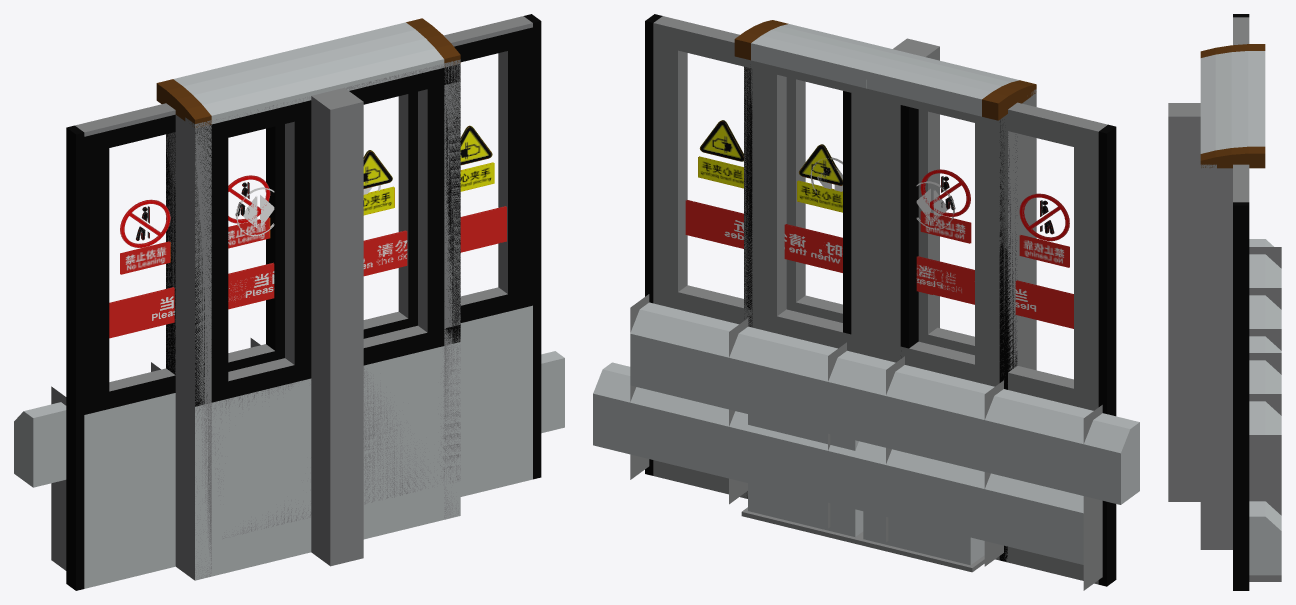
Rendered from bj_screendoor_1.obj.
3 renders of one model, left to right at view 1: azimuth 30°, elevation 25°; view 2: azimuth 150°, elevation 25°; view 3: azimuth 270°, elevation 25°, orthographic. The views are drawn at different scales.
Parts seen in each view (by area): view 1: r_l, l_l, g_ld, g_rd, g_lgn, g_rse, l_c, g_lse, g_rgn, g_lg, g_rdg, g_rg (+4 smaller); view 2: l_l, l_c, r_l, r_c, r_s, g_ld, g_rd, l_s, g_rse; view 3: g_rd, l_l, g_lse, g_ld, r_c, l_c, l_s, g_rgn, r_l, r_s, g_rse.
Boxes of the visible parts, box(x1,y1,x2,y2) form: r_l: box(51, 103, 564, 590); l_l: box(24, 14, 541, 496); g_ld: box(156, 50, 327, 579); g_rd: box(290, 18, 460, 537); g_lgn: box(185, 97, 311, 580); g_rse: box(311, 92, 346, 566); l_c: box(14, 91, 417, 487); g_lse: box(328, 88, 363, 562); g_rgn: box(346, 59, 460, 539); g_lg: box(195, 102, 311, 540); g_rdg: box(351, 65, 460, 539); g_rg: box(355, 65, 460, 515); l_l: box(630, 14, 1137, 503); l_c: box(729, 62, 1139, 562); r_l: box(593, 68, 1116, 590); r_c: box(593, 65, 1017, 566); r_s: box(593, 74, 918, 542); g_ld: box(857, 52, 1036, 572); g_rd: box(734, 20, 903, 544); l_s: box(828, 91, 1135, 528); g_rse: box(909, 42, 939, 327); g_rd: box(1200, 98, 1265, 549); l_l: box(1233, 164, 1281, 590); g_lse: box(1168, 109, 1200, 501); g_ld: box(1200, 44, 1265, 105); r_c: box(1249, 288, 1281, 575); l_c: box(1249, 239, 1281, 415); l_s: box(1249, 240, 1281, 374); g_rgn: box(1200, 164, 1216, 549); r_l: box(1233, 14, 1281, 528); r_s: box(1249, 329, 1281, 528); g_rse: box(1168, 103, 1200, 109).
Bounding box in the file's own units: 2 × 1.69 × 0.4375.
Materials: 5 (5 with a texture image).
